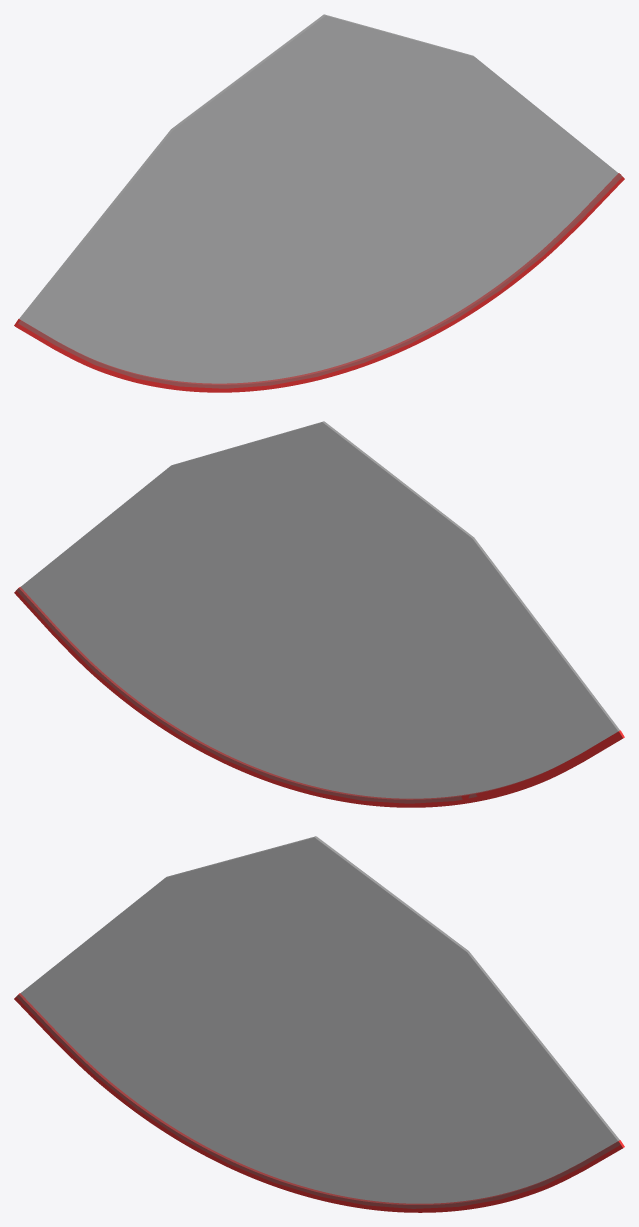
3 renders of one model, top to bottom at view 1: azimuth 30°, elevation 25°; view 2: azimuth 150°, elevation 25°; view 3: azimuth 330°, elevation 25°, orthographic.
Visible parts, largest first — view 1: Circle006, 图形005; view 2: Circle006, 图形005; view 3: Circle006, 图形005.
Part boxes in pixels (x1,y1,x2,y2): Circle006: (18,14,622,388); 图形005: (14,173,624,392); Circle006: (16,421,619,803); 图形005: (14,587,624,807); Circle006: (16,836,620,1208); 图形005: (14,993,624,1212).
Bounding box in the file's own units: 32.92 × 19.07 × 0.8383.
2 materials, 1 textured.
